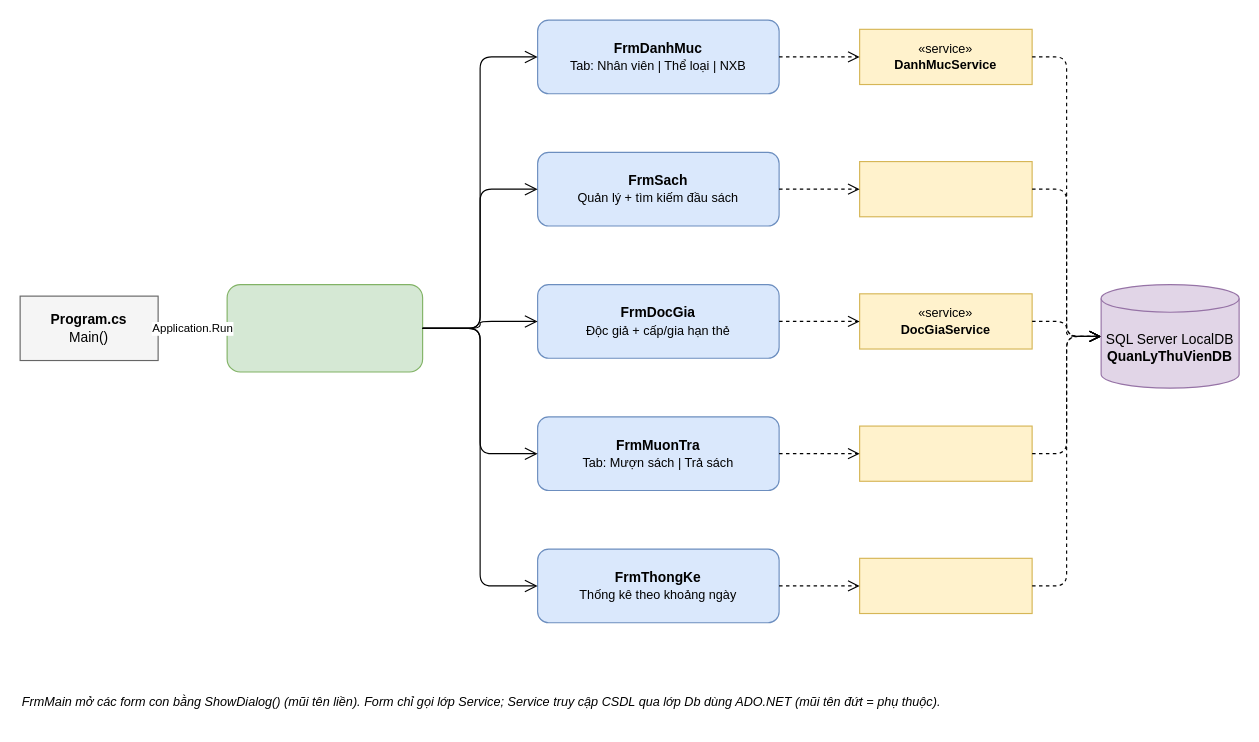
Image size: 1259x742. Some labels were removed from this diagram. Each missing label, with the centre of its shape:
"FrmMain Trang chủ – điều hướng" belongs at (324,327).
"«service» MuonTraService" belongs at (945,453).
"«service» SachService" belongs at (945,188).
"«service» ThongKeService" belongs at (945,585).
